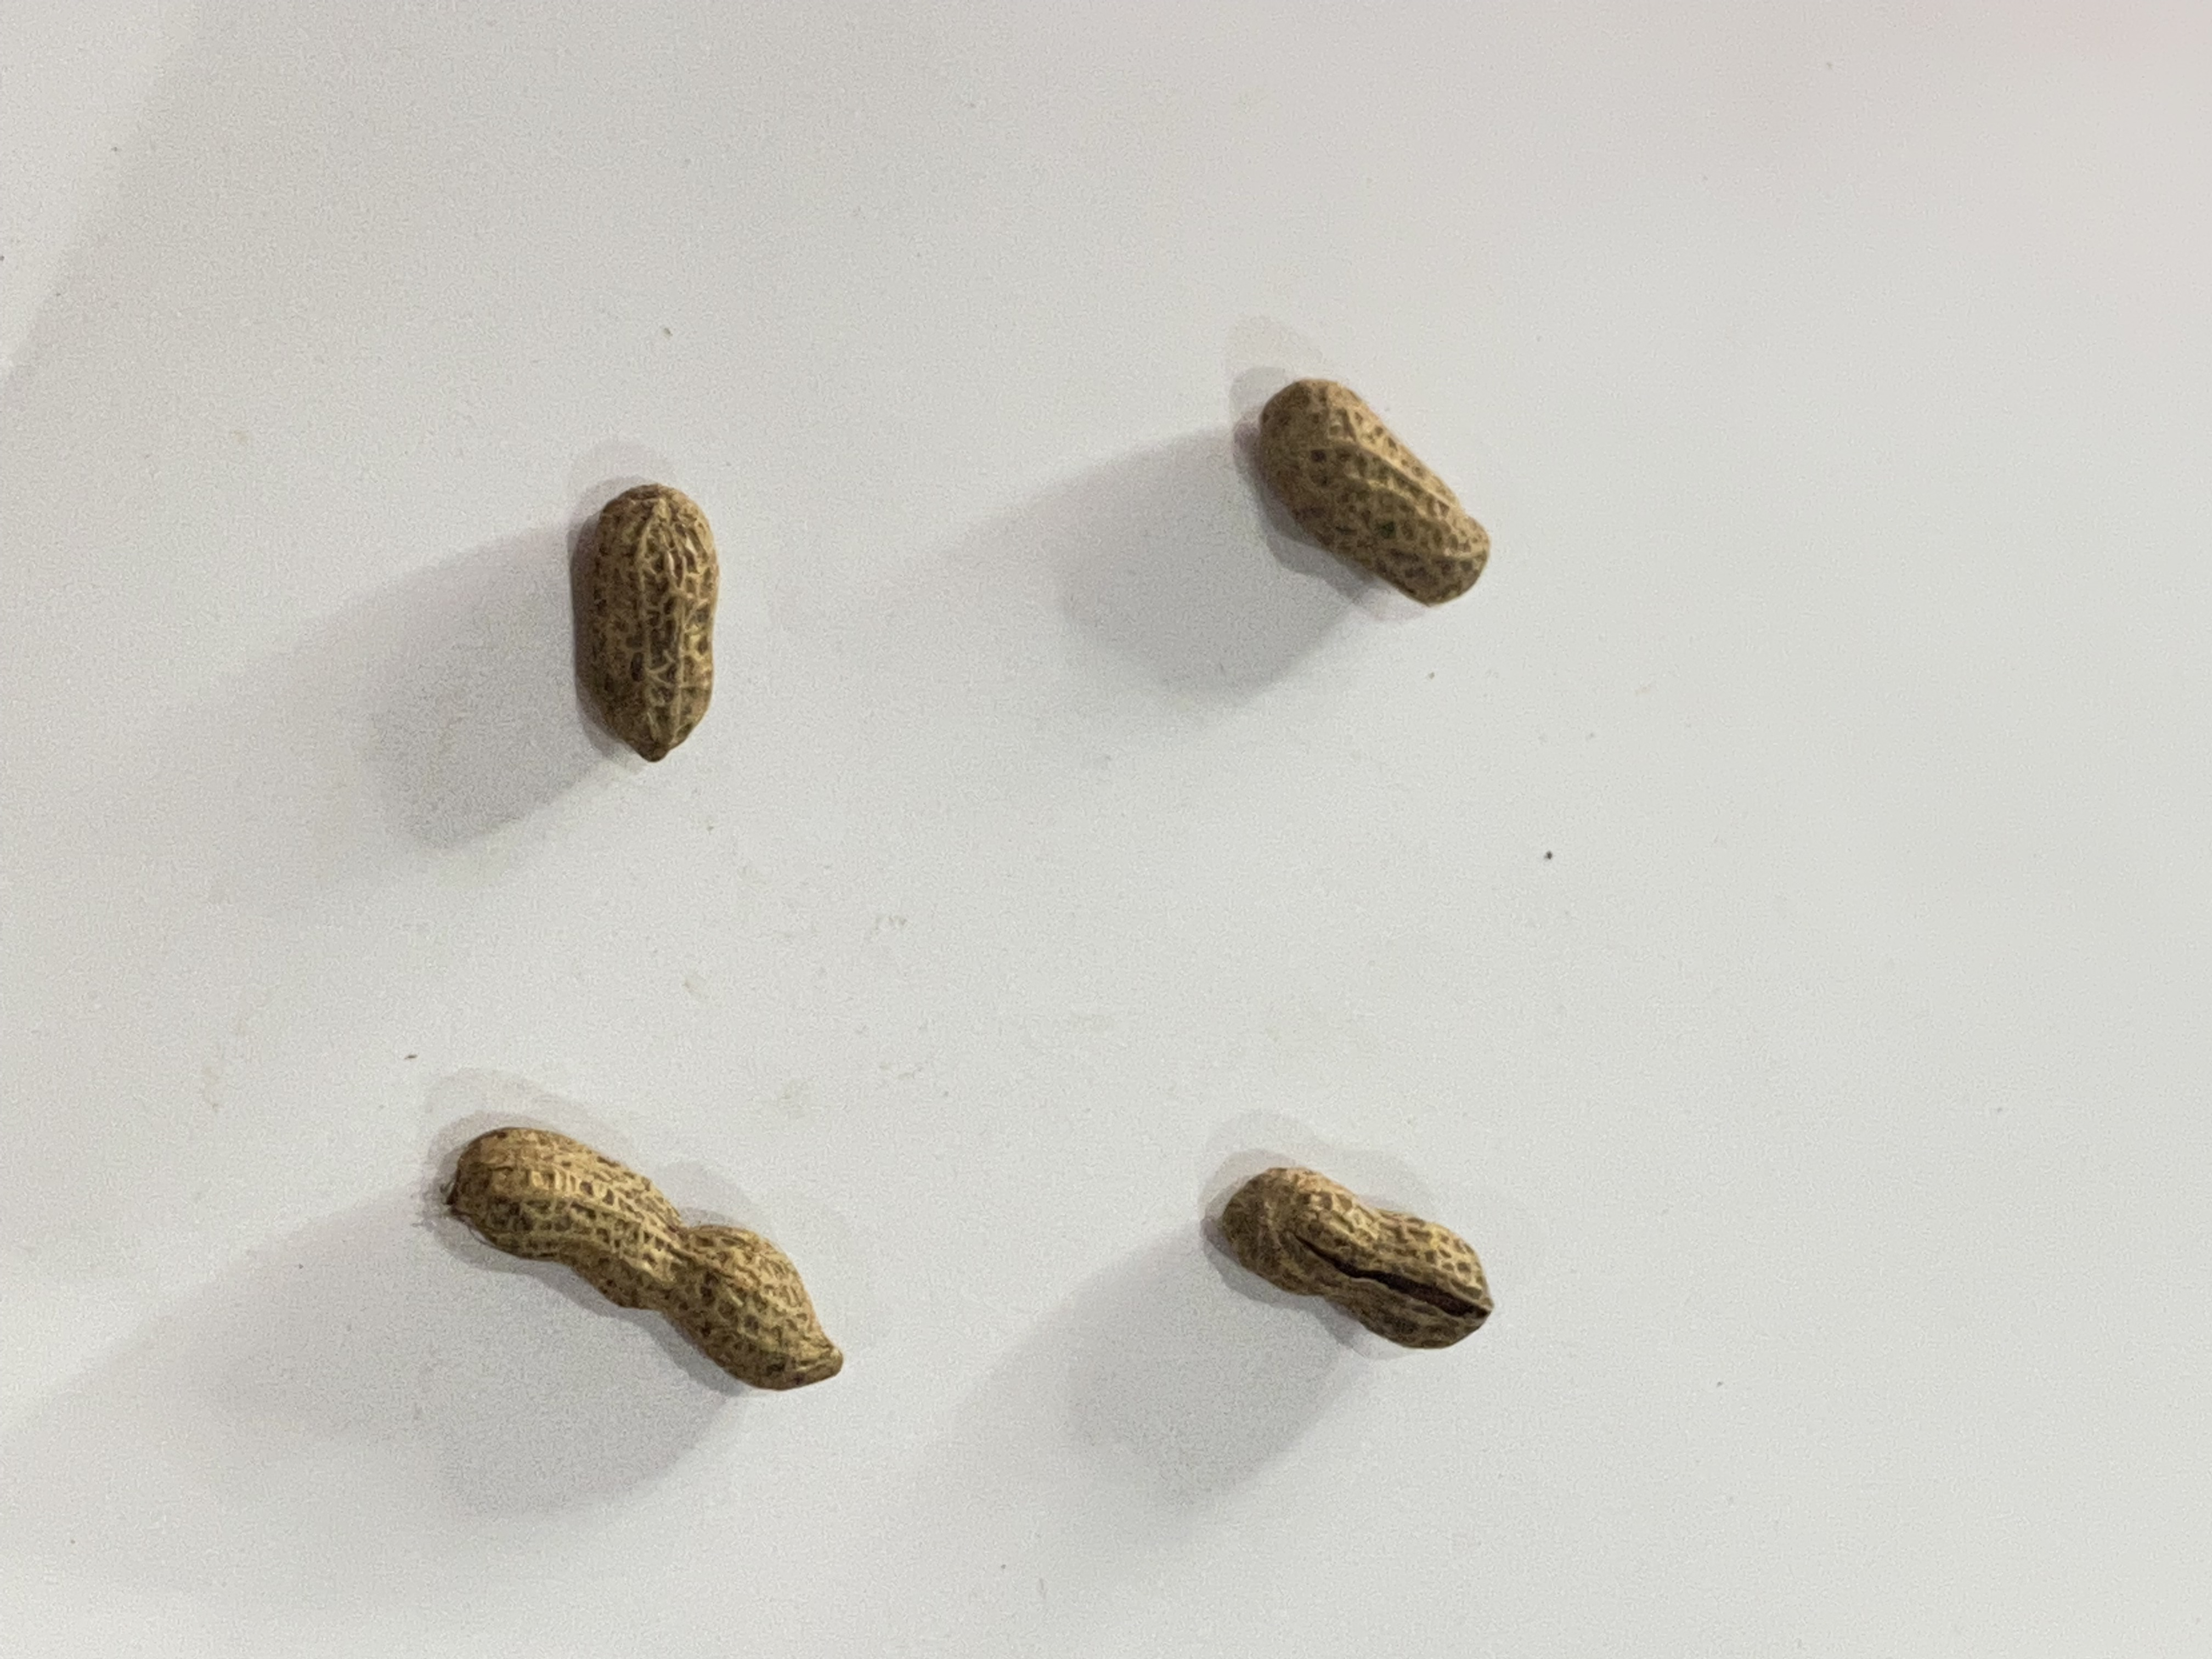kacang2: (1224, 361, 1519, 612), (1204, 1145, 1512, 1377), (580, 458, 744, 777)
kacang3: (409, 1112, 888, 1425)
